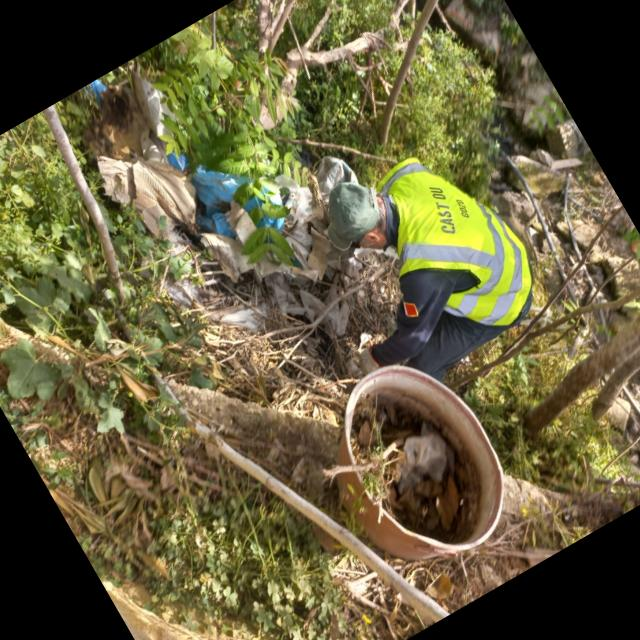Other litter: (328, 362, 506, 569), (569, 197, 611, 226)
Other plastic: (69, 71, 396, 341), (499, 148, 640, 416), (562, 173, 611, 342)
